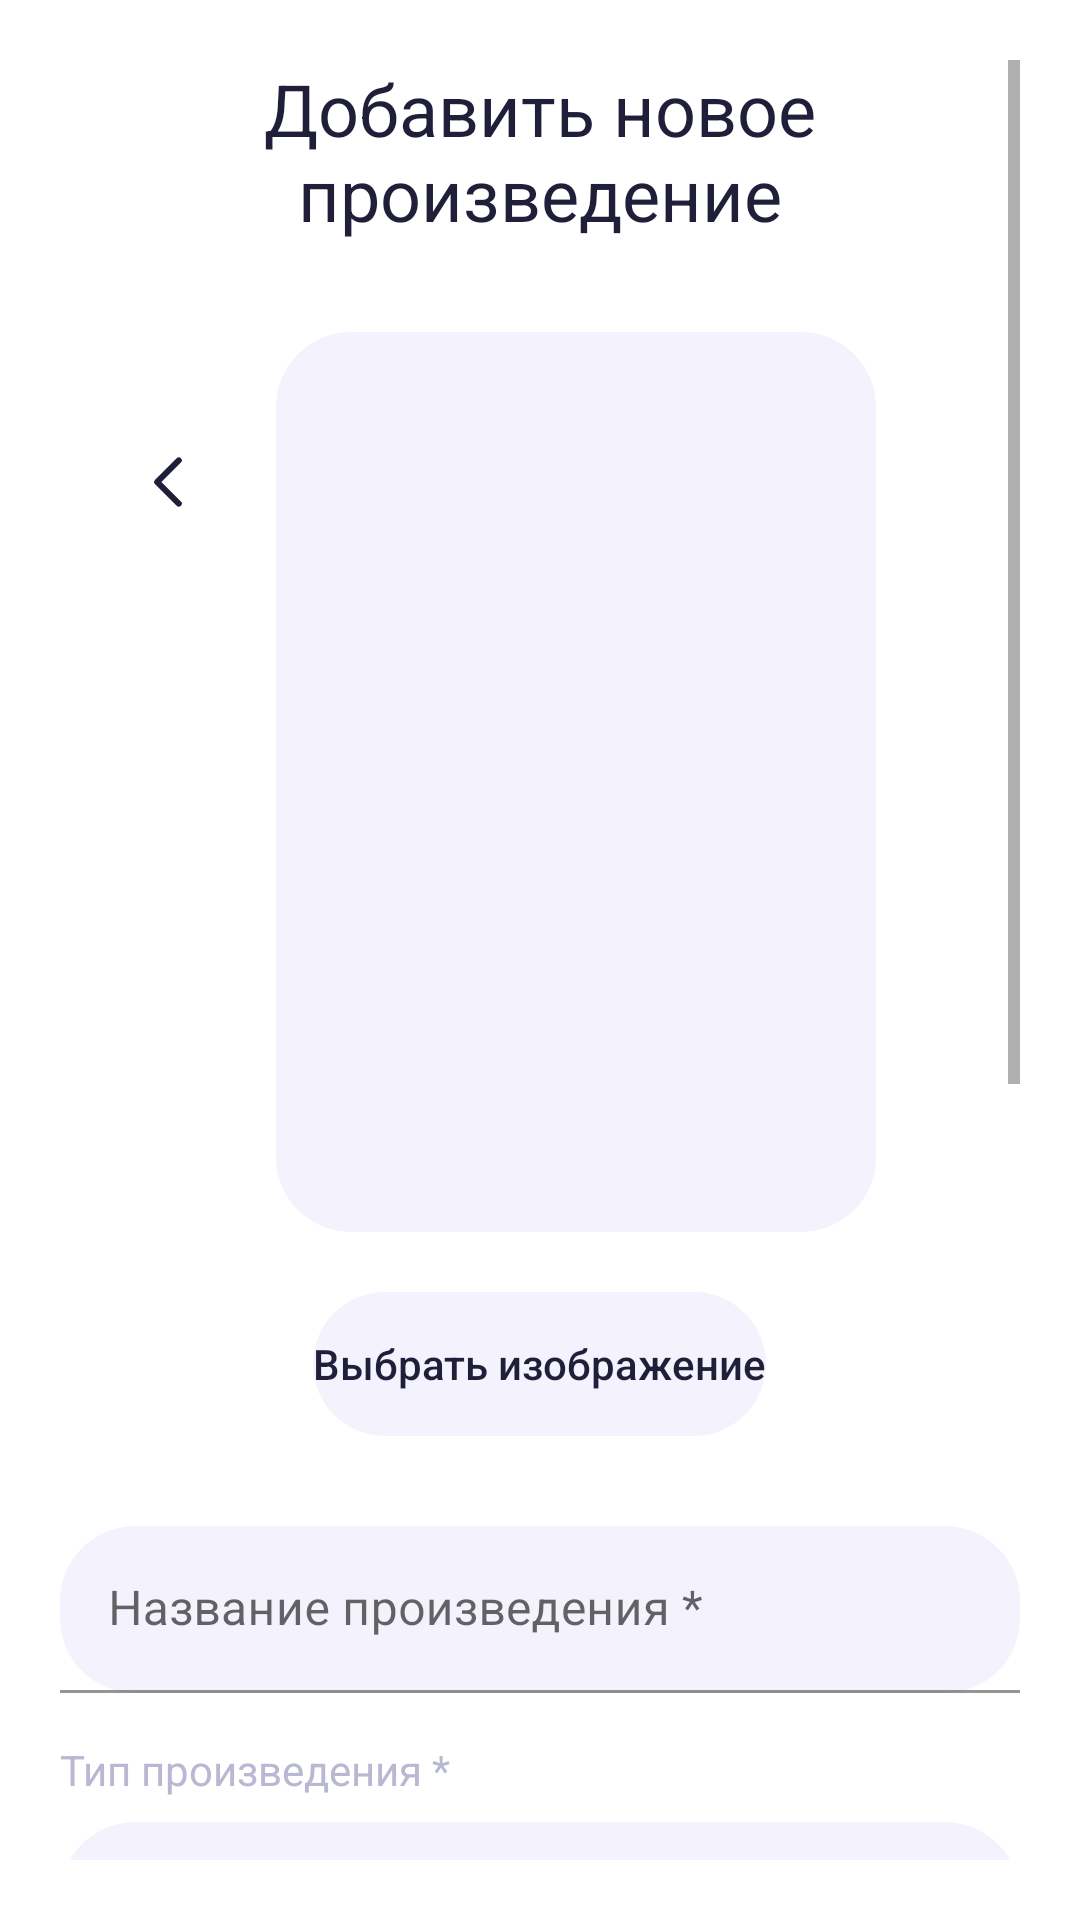

Icon click points for this 1080×1920 phone screenshot, format [x,y]:
back: [168,482]
